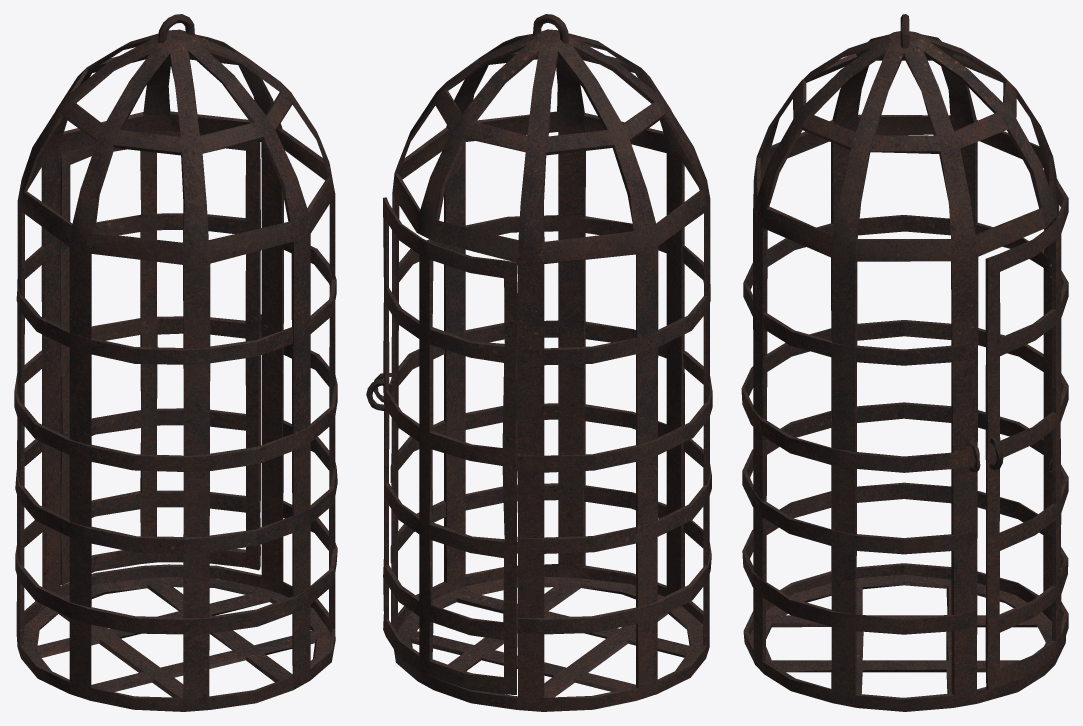
File: cage.gltf
3 views of the same model, side by side, from view 1: azimuth 30°, elevation 25°; view 2: azimuth 150°, elevation 25°; view 3: azimuth 270°, elevation 25° (orthographic).
Parts seen in each view (by area): view 1: cage, cagedoor; view 2: cage, cagedoor; view 3: cage, cagedoor.
Boxes of the visible parts, x1,y1,x2,y2 form: cage: (14, 14, 337, 711); cagedoor: (60, 130, 261, 584); cage: (374, 14, 712, 711); cagedoor: (366, 197, 517, 694); cage: (741, 14, 1065, 711); cagedoor: (985, 178, 1068, 689).
Size of the model in its own units: 0.9837 by 2.09 by 0.9819.
Materials: 1 (1 with a texture image).
